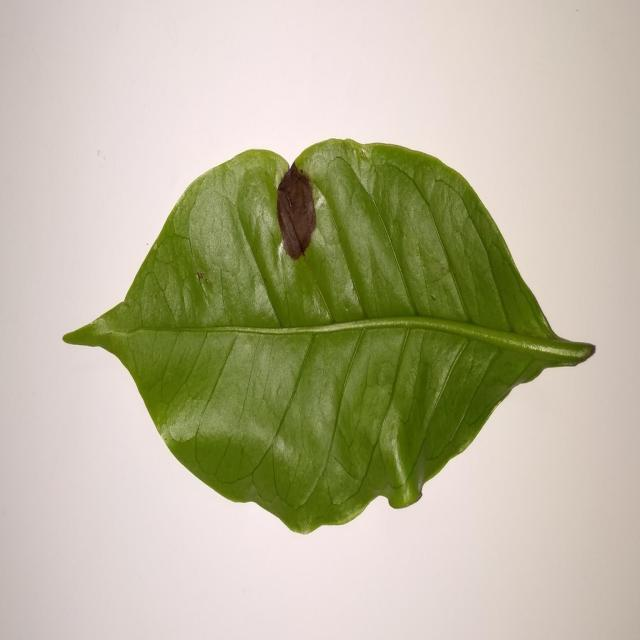Enfermedad-Antracnosis: (60, 139, 596, 538)
